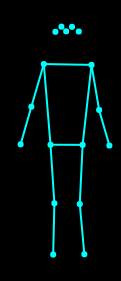mountain: (14, 20, 117, 259)
